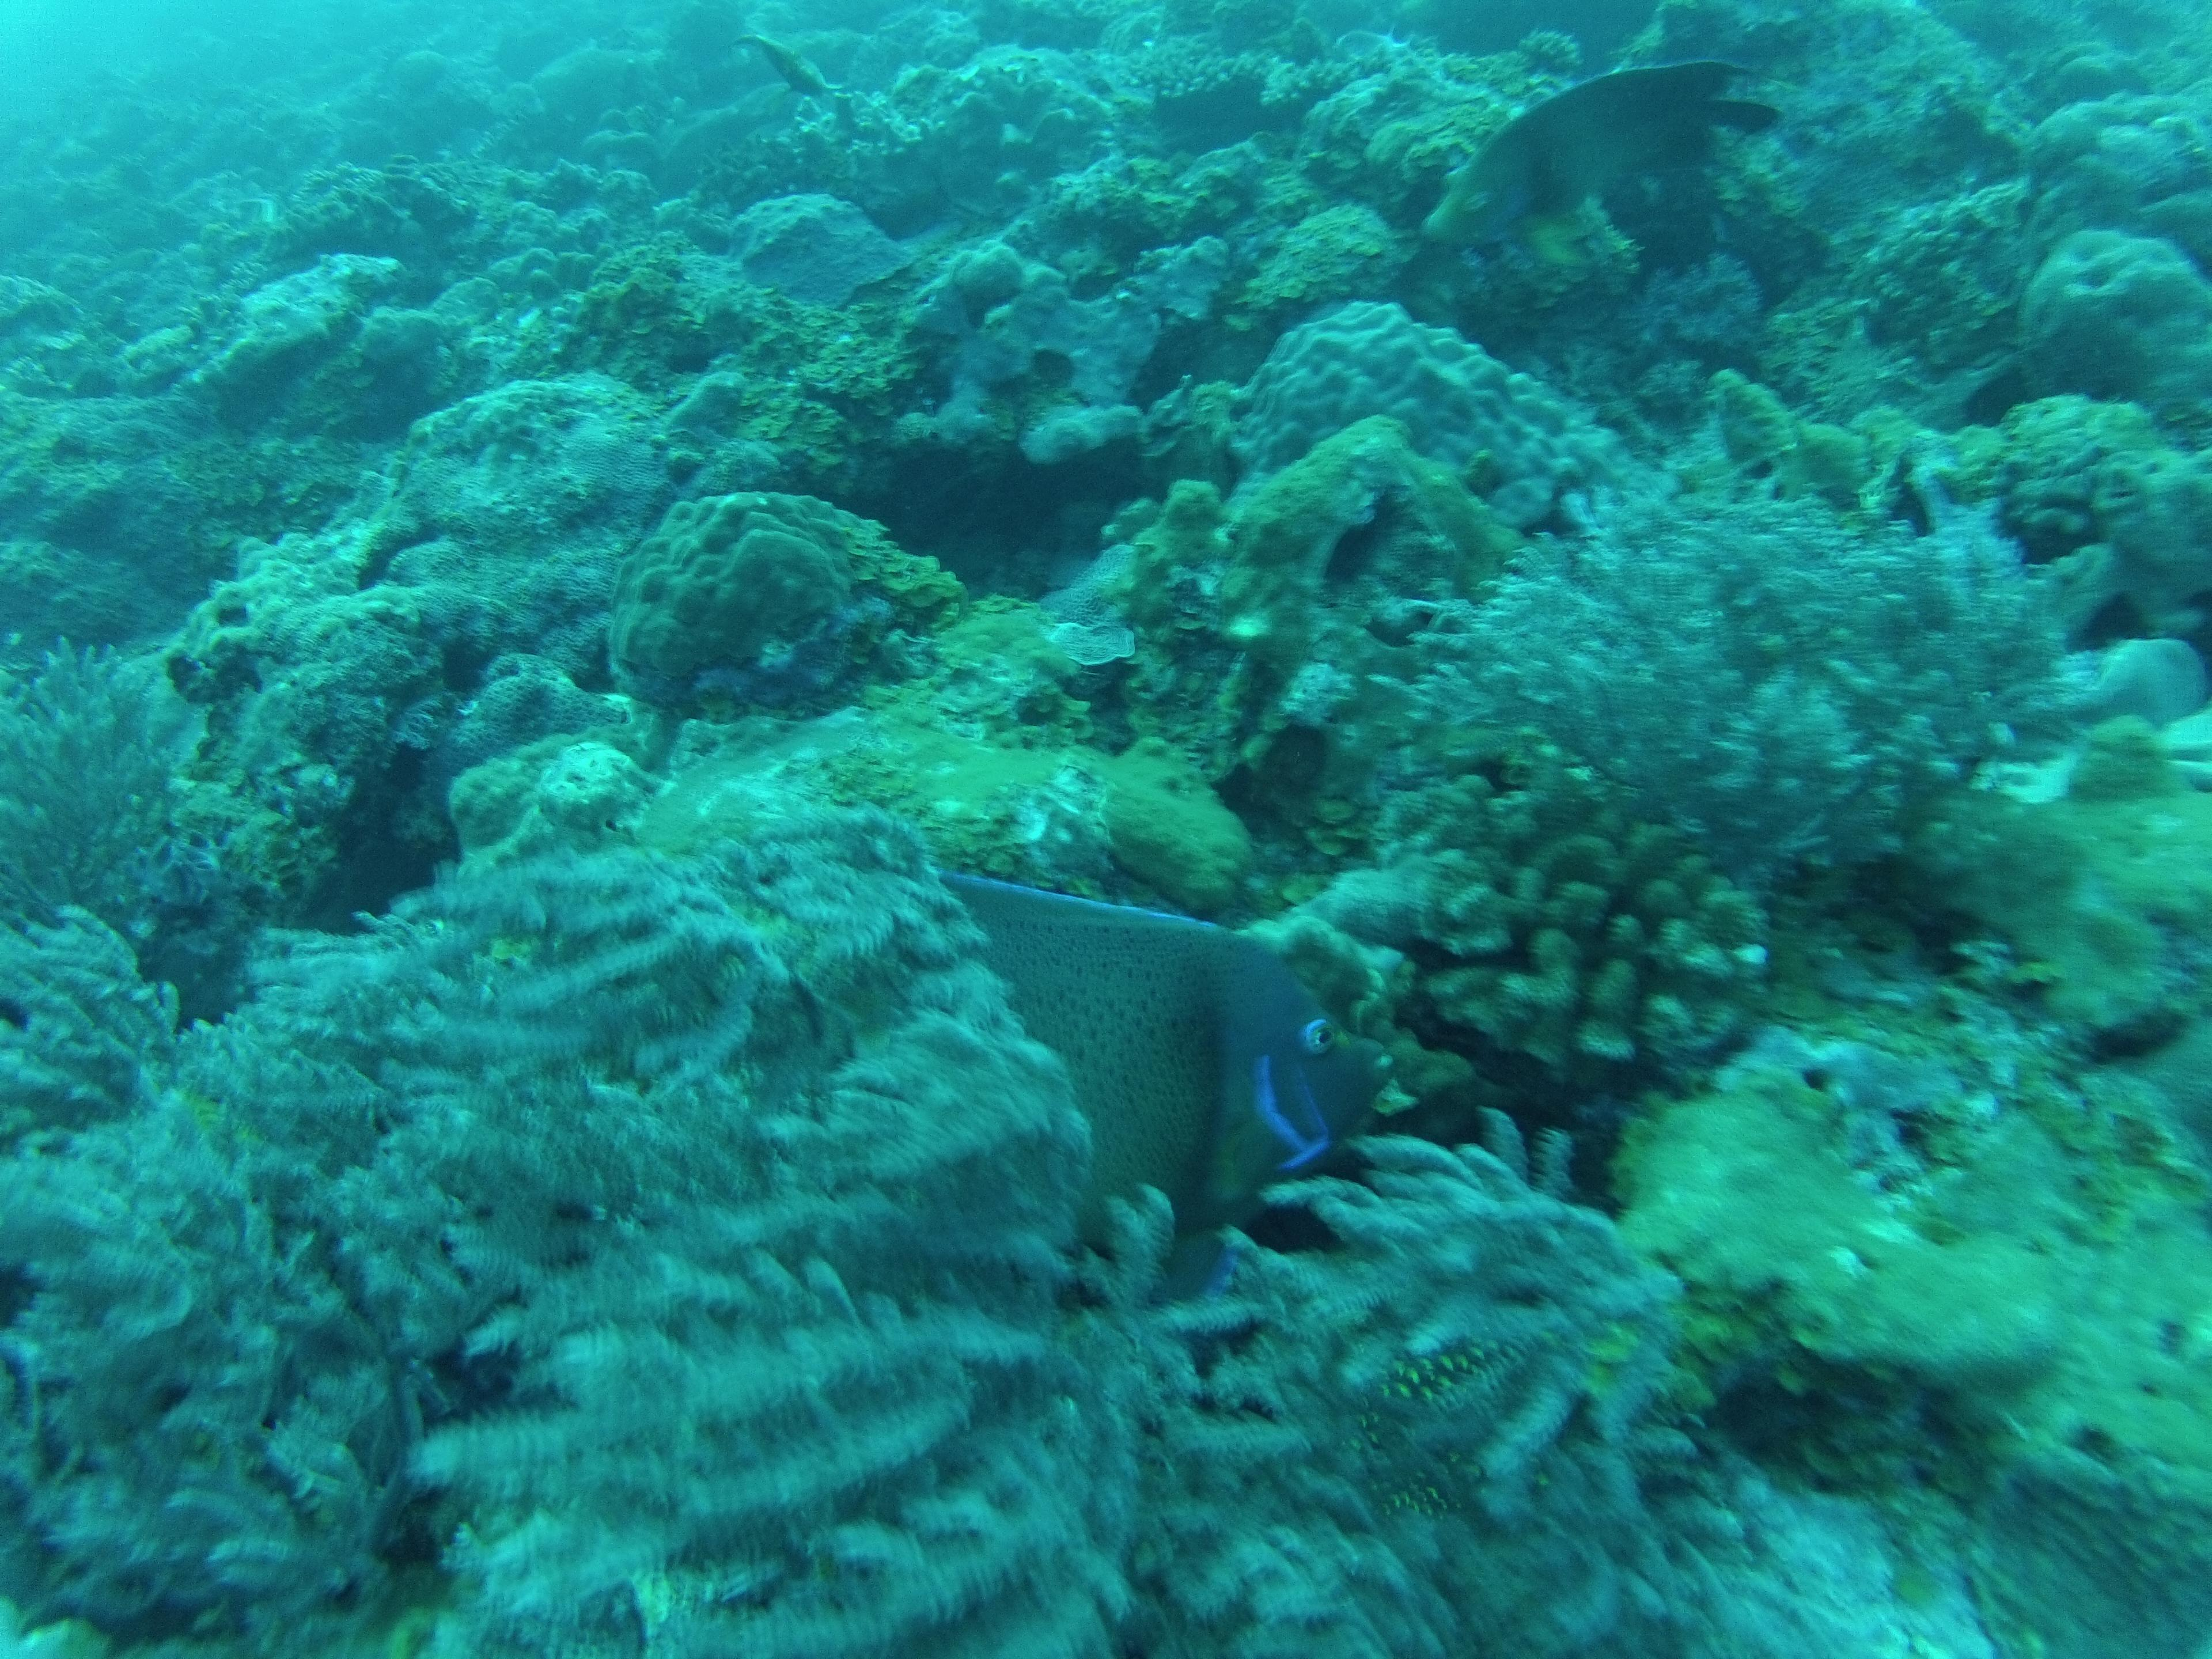Pomacanthus semicirculatus: (850, 821, 1458, 1420), (1366, 30, 1803, 317)
